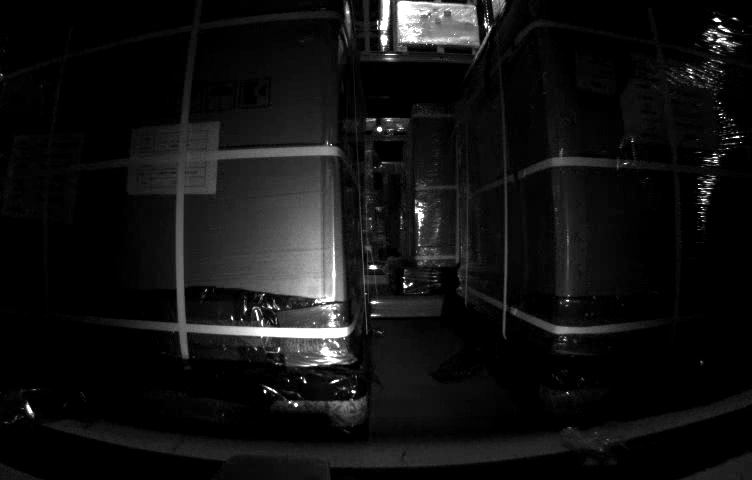True Barcode: (577, 50, 614, 95)
